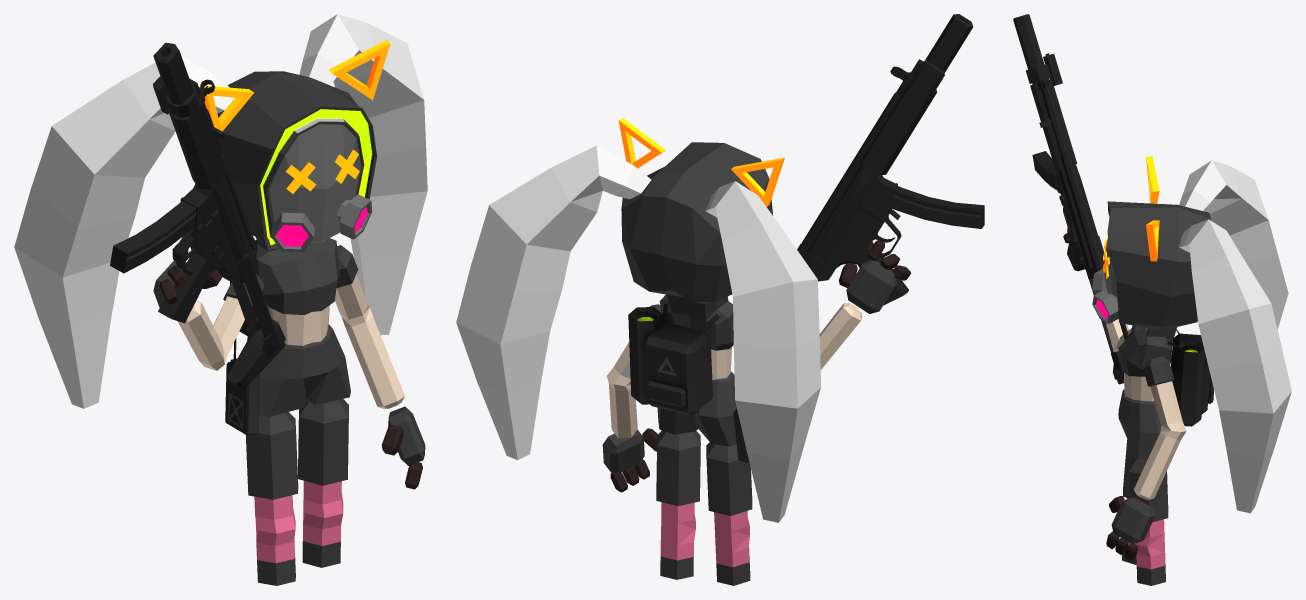
Rendered from ASAS1.fbx.
The picture shows the model from 3 angles, left to right: view 1: azimuth 30°, elevation 25°; view 2: azimuth 150°, elevation 25°; view 3: azimuth 270°, elevation 25°; orthographic projection. The views are drawn at different scales.
Visible parts, largest first — view 1: Body, MP5, Cube.001; view 2: Body, MP5, bomb, bomb.001; view 3: Body, MP5, bomb.001, bomb.
Part boxes in pixels (box(x1,y1,x2,y2)): Body: box(14, 14, 427, 585); MP5: box(110, 42, 285, 389); Cube.001: box(225, 338, 259, 435); Body: box(456, 118, 911, 585); MP5: box(797, 14, 984, 305); bomb: box(643, 303, 720, 415); bomb.001: box(628, 307, 662, 404); Body: box(1063, 156, 1291, 585); MP5: box(1013, 14, 1128, 384); bomb.001: box(1174, 341, 1205, 426); bomb: box(1167, 329, 1213, 414).
Bounding box in the file's own units: 68.04 × 91.14 × 48.2.
